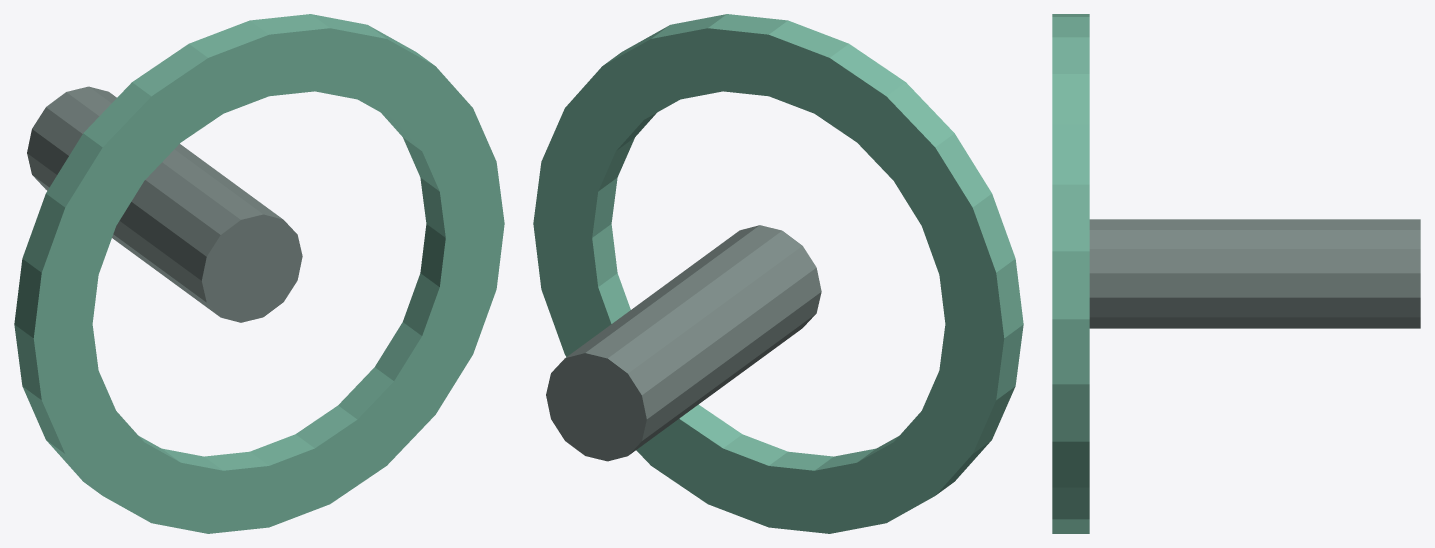
Rendered from panorama-portal-eco.glb.
The picture shows the model from 3 angles, left to right: view 1: azimuth 30°, elevation 25°; view 2: azimuth 150°, elevation 25°; view 3: azimuth 270°, elevation 25°; orthographic projection. The views are drawn at different scales.
Parts seen in each view (by area): view 1: portal-ring, stand; view 2: portal-ring, stand; view 3: stand, portal-ring.
Boxes of the visible parts, bbox=[...] form: portal-ring: bbox=[14, 14, 504, 533]; stand: bbox=[27, 86, 302, 322]; portal-ring: bbox=[533, 14, 1023, 533]; stand: bbox=[546, 225, 821, 461]; stand: bbox=[1089, 219, 1420, 328]; portal-ring: bbox=[1052, 14, 1089, 533].
Size of the model in its own units: 1.12 by 1.12 by 0.79.
